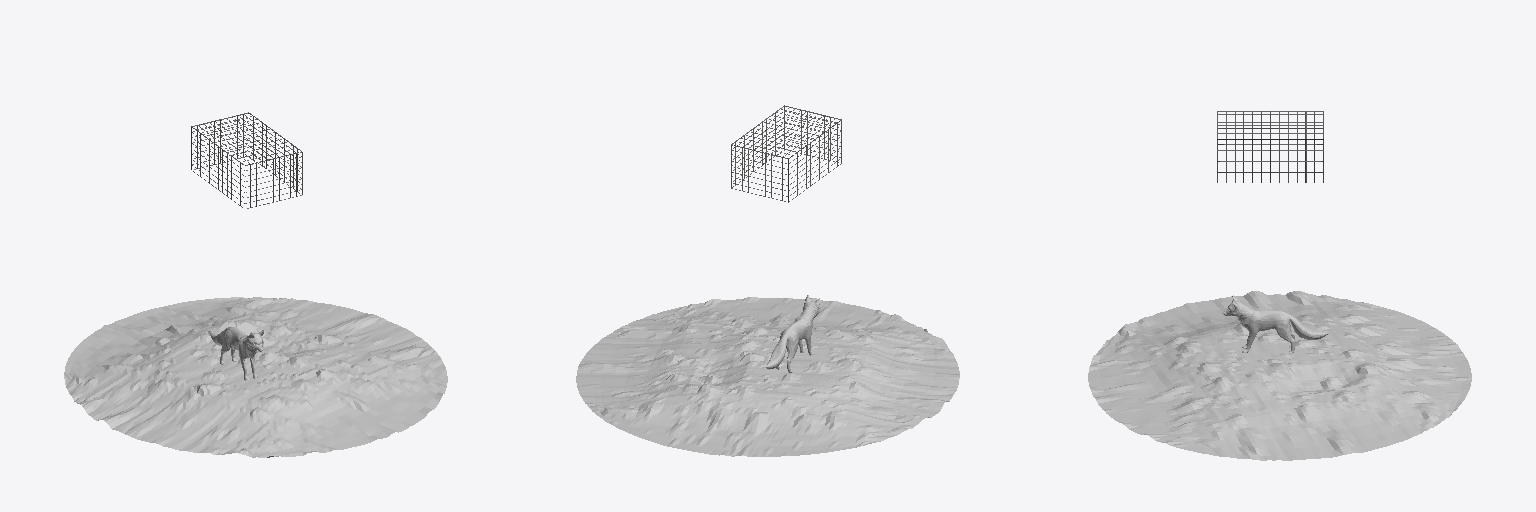
The model's file is zorro.obj.
3 views of the same model, side by side, from view 1: azimuth 30°, elevation 25°; view 2: azimuth 150°, elevation 25°; view 3: azimuth 270°, elevation 25° (orthographic).
Parts seen in each view (by area): view 1: floor_Plane, JA_Cube.002, Fox_Body; view 2: floor_Plane, JA_Cube.002, Fox_Body; view 3: floor_Plane, JA_Cube.002, Fox_Body.
Part boxes in pixels (x1,y1,x2,y2): floor_Plane: (64, 297, 447, 457); JA_Cube.002: (191, 112, 302, 208); Fox_Body: (209, 327, 263, 380); floor_Plane: (576, 297, 959, 456); JA_Cube.002: (731, 105, 841, 202); Fox_Body: (766, 295, 819, 372); floor_Plane: (1088, 291, 1471, 460); JA_Cube.002: (1217, 111, 1323, 182); Fox_Body: (1222, 295, 1328, 353).
Size of the model in its own units: 39.88 by 28.44 by 39.89.